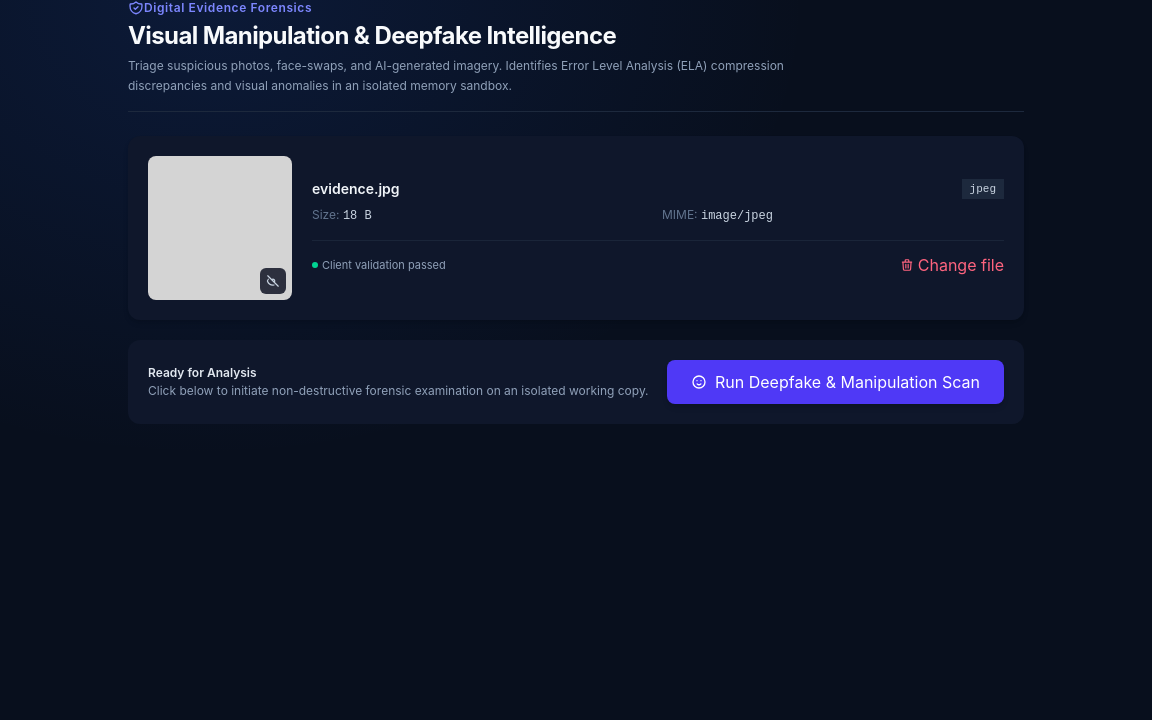
it: SafeImageAnalysisWorkflow Component › allows case association from results dashboard
Earlier steps of the test are not shown.
Step 1. Click the button "Run Deepfake & Manipulation Scan" → (836,382), box [667, 360, 1004, 404]
(page scrolled)
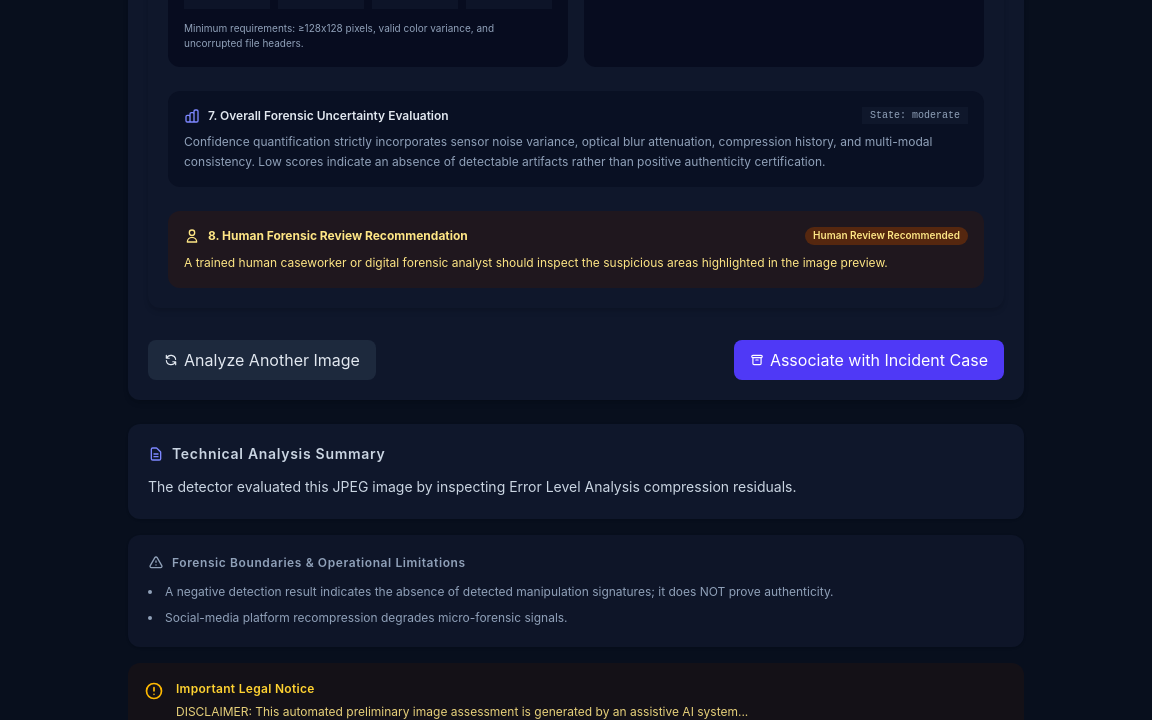
Step 2. Click the button "Associate with Incident Case" → (869,360), box [734, 340, 1004, 380]
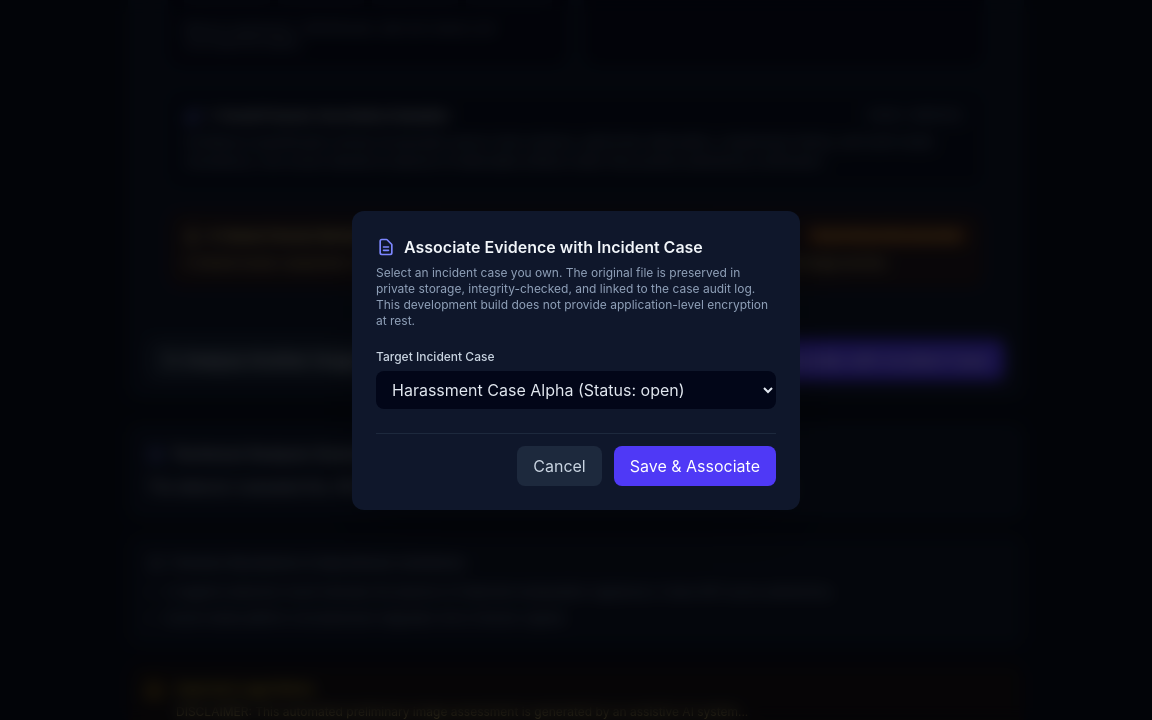
Now the heading "Associate Evidence with Incident Case" is shown, box [376, 236, 703, 256]
Step 3. Click the button "Save & Associate" → (695,466), box [614, 446, 776, 486]
(page scrolled)
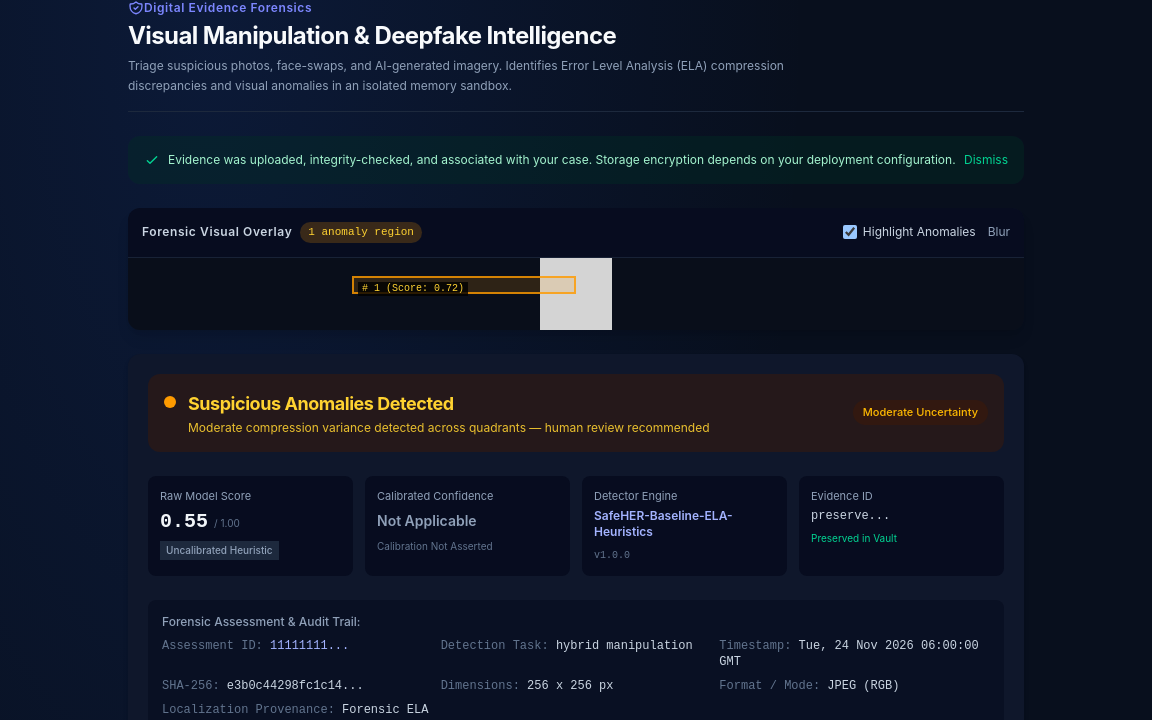
Now the message shows "Evidence was uploaded, integrity-checked", box [168, 152, 956, 167]
